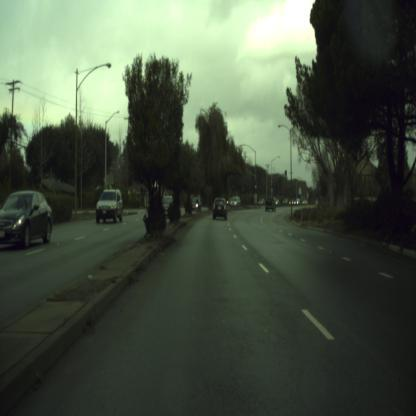Green: (254, 180, 256, 189), (306, 186, 308, 194), (284, 169, 286, 177)
